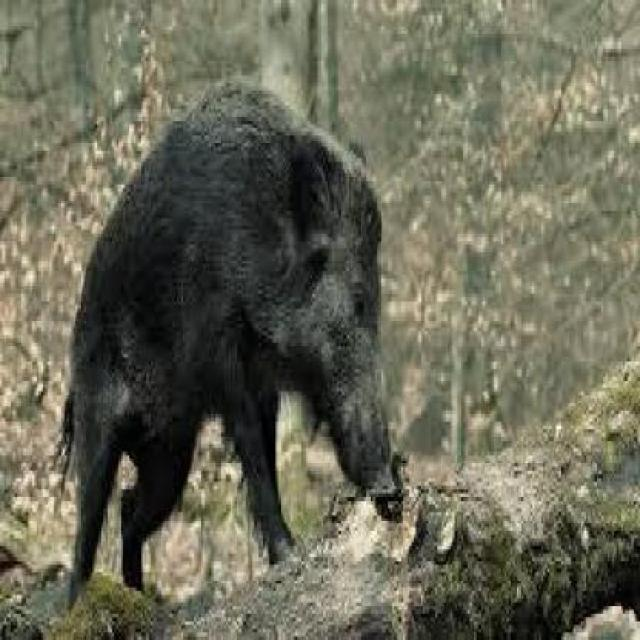wildboar: (48, 73, 390, 612)
